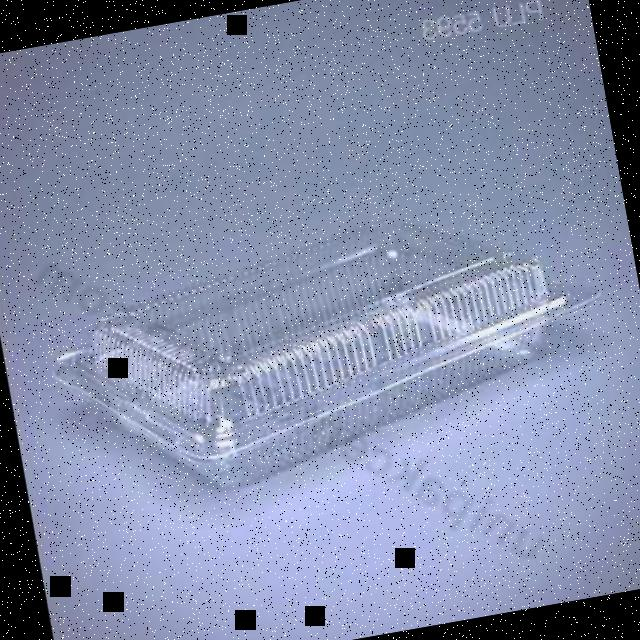plastic_box: (33, 183, 619, 516)
